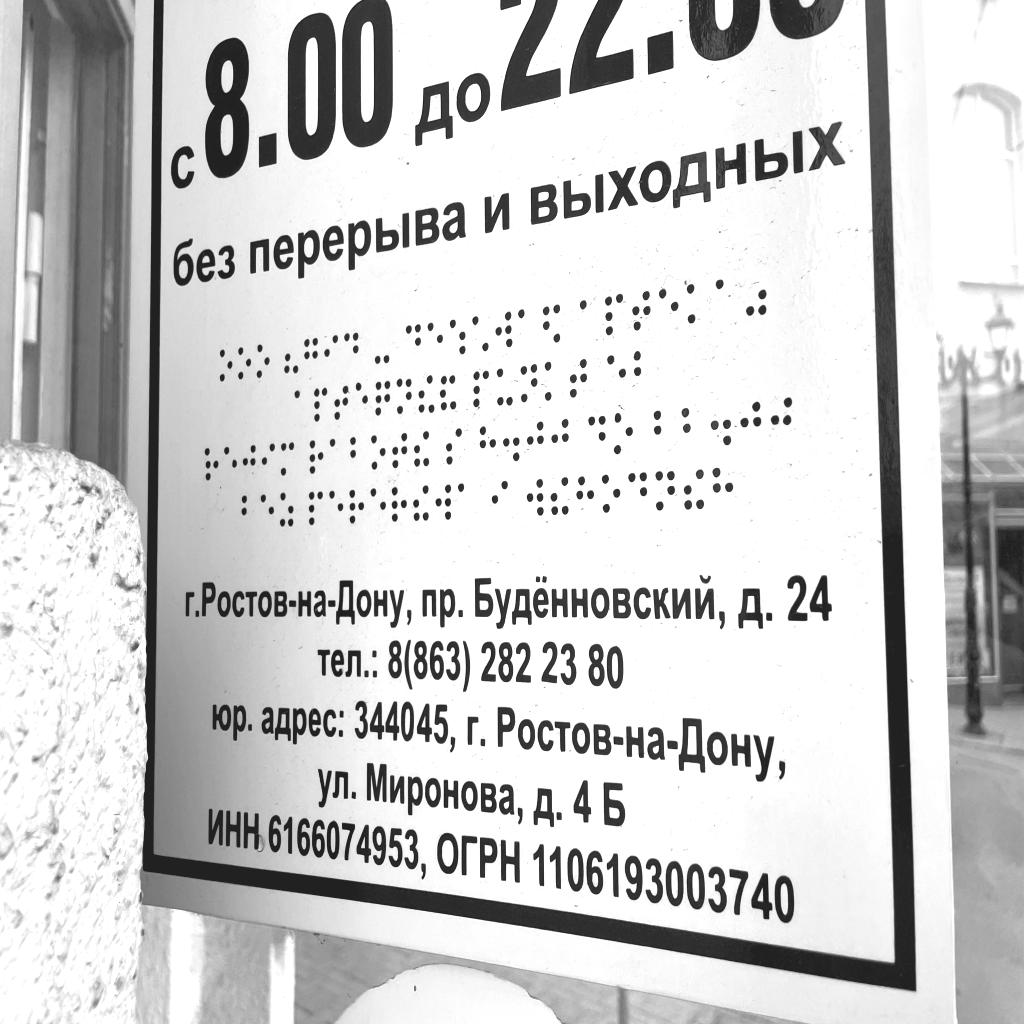_n: (654, 470, 676, 512), (520, 363, 539, 403), (395, 377, 413, 415)
_y: (496, 368, 515, 407)
a: (715, 279, 736, 322), (579, 299, 598, 337), (517, 308, 535, 344), (457, 482, 475, 518), (329, 437, 345, 476), (294, 388, 311, 423)
b: (349, 435, 366, 473), (241, 495, 257, 532)
ch: (375, 380, 392, 416)
d: (628, 470, 648, 514), (588, 414, 607, 455), (405, 323, 422, 360), (343, 332, 360, 366)
defis: (375, 332, 391, 365)
e: (658, 287, 679, 328), (370, 486, 388, 525), (427, 320, 444, 357), (328, 489, 344, 527), (260, 492, 276, 529), (355, 383, 369, 420), (224, 446, 238, 482)
g: (303, 338, 319, 372)
gh: (242, 444, 257, 479)
i: (491, 478, 508, 518), (324, 334, 338, 370), (261, 442, 275, 478)
iKratkoe: (440, 374, 457, 411)
ii: (684, 469, 705, 511), (550, 476, 570, 517), (418, 375, 435, 414), (413, 430, 430, 469), (413, 483, 430, 522)
k: (686, 283, 708, 325), (543, 360, 564, 403)
kavichki1: (284, 342, 299, 375)
kavichki2: (744, 274, 768, 318)
m: (281, 441, 295, 477)
o: (600, 474, 622, 514), (613, 412, 633, 454), (369, 433, 387, 472), (218, 348, 233, 383), (256, 344, 270, 379), (238, 347, 252, 380)
p: (604, 294, 624, 337), (473, 370, 490, 409), (308, 490, 323, 527), (314, 387, 328, 423)
r: (391, 485, 408, 524), (348, 488, 365, 526), (309, 439, 325, 476), (204, 447, 220, 482)
s: (446, 426, 463, 466)
sh: (449, 318, 467, 355)
t: (632, 289, 652, 333), (569, 358, 588, 400), (391, 432, 408, 470), (334, 384, 349, 422)
tochka: (710, 403, 732, 447), (503, 422, 521, 463)
v: (434, 483, 453, 521), (526, 477, 544, 517), (495, 310, 513, 348)
x: (712, 466, 735, 510), (575, 475, 595, 518)
ya: (542, 304, 562, 344)
yo: (473, 315, 490, 353)
z: (279, 490, 295, 528)
